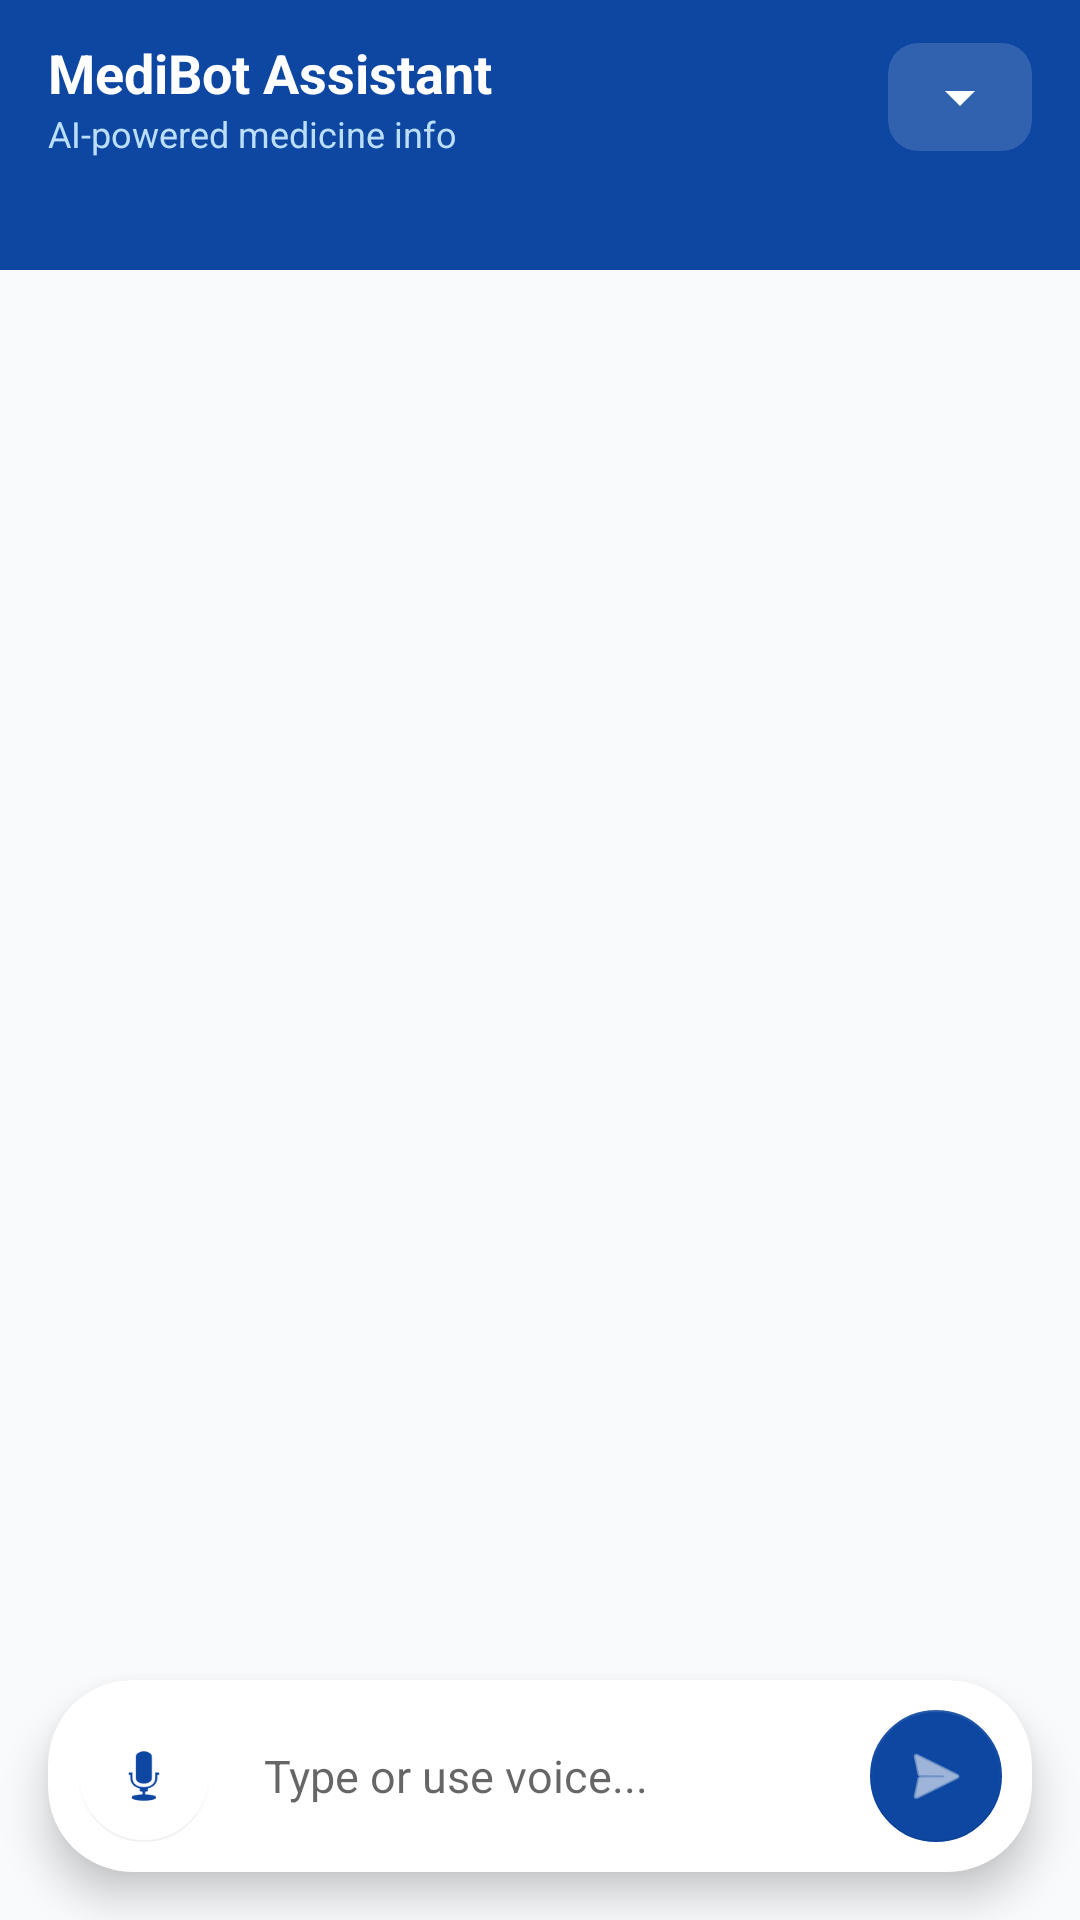

Named icons in this screenshot (1080 × 1920) and their centers, [x,y]:
send: [936,1776]
speak now: [144,1776]
